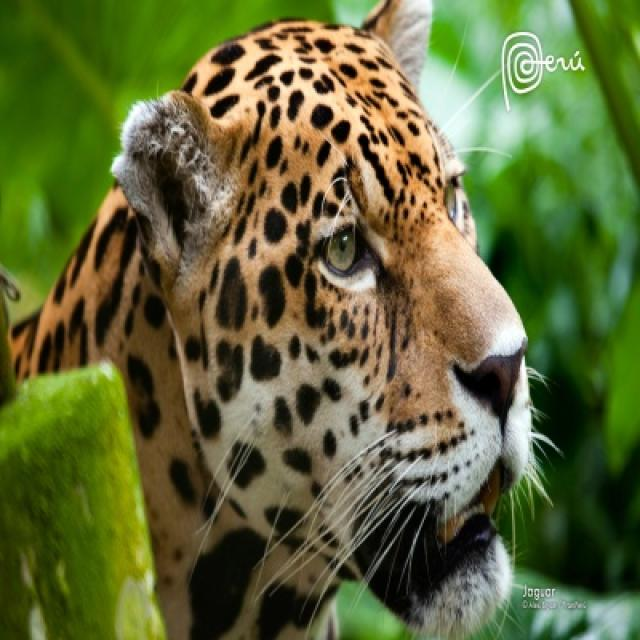Jaguar: (8, 0, 541, 638)
